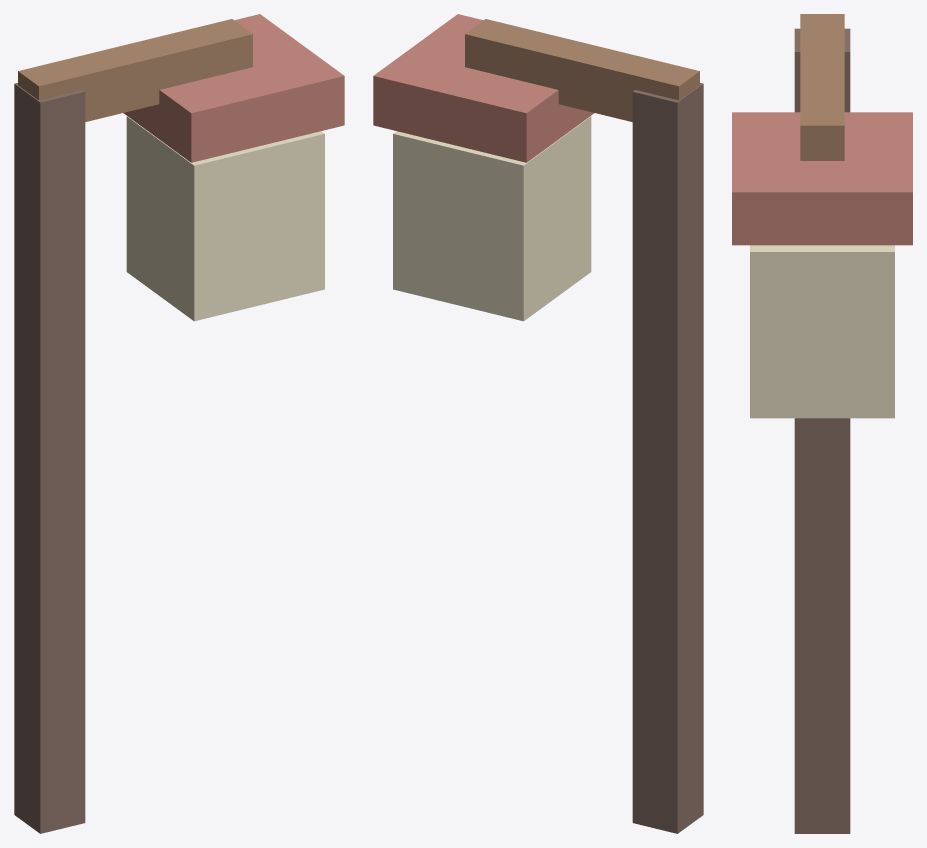
File: street_lamp_post.glb
3 renders of one model, left to right at view 1: azimuth 30°, elevation 25°; view 2: azimuth 150°, elevation 25°; view 3: azimuth 270°, elevation 25°, orthographic. The views are drawn at different scales.
Visible parts, largest first — view 1: wood_dark, paper, roof_red, wood; view 2: wood_dark, paper, roof_red, wood; view 3: paper, wood_dark, roof_red, wood.
Boxes of the visible parts, box(x1,y1,x2,y2) form: wood_dark: box(14, 83, 85, 833); paper: box(126, 116, 324, 321); roof_red: box(123, 14, 344, 162); wood: box(18, 19, 252, 121); wood_dark: box(632, 83, 703, 833); paper: box(393, 116, 591, 321); roof_red: box(373, 14, 594, 162); wood: box(465, 19, 699, 121); paper: box(750, 245, 894, 418); wood_dark: box(794, 28, 850, 833); roof_red: box(732, 112, 912, 245); wood: box(800, 14, 844, 160).
Size of the model in its own units: 1.22 by 3.16 by 0.65.
